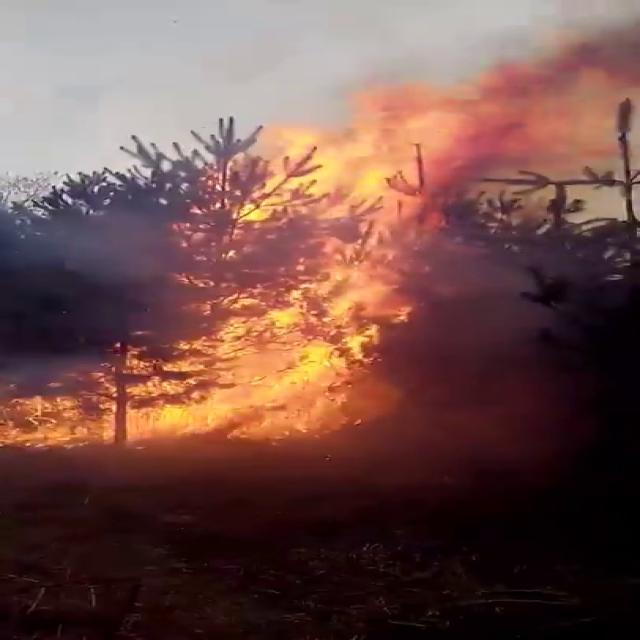Fire: (9, 61, 588, 458)
